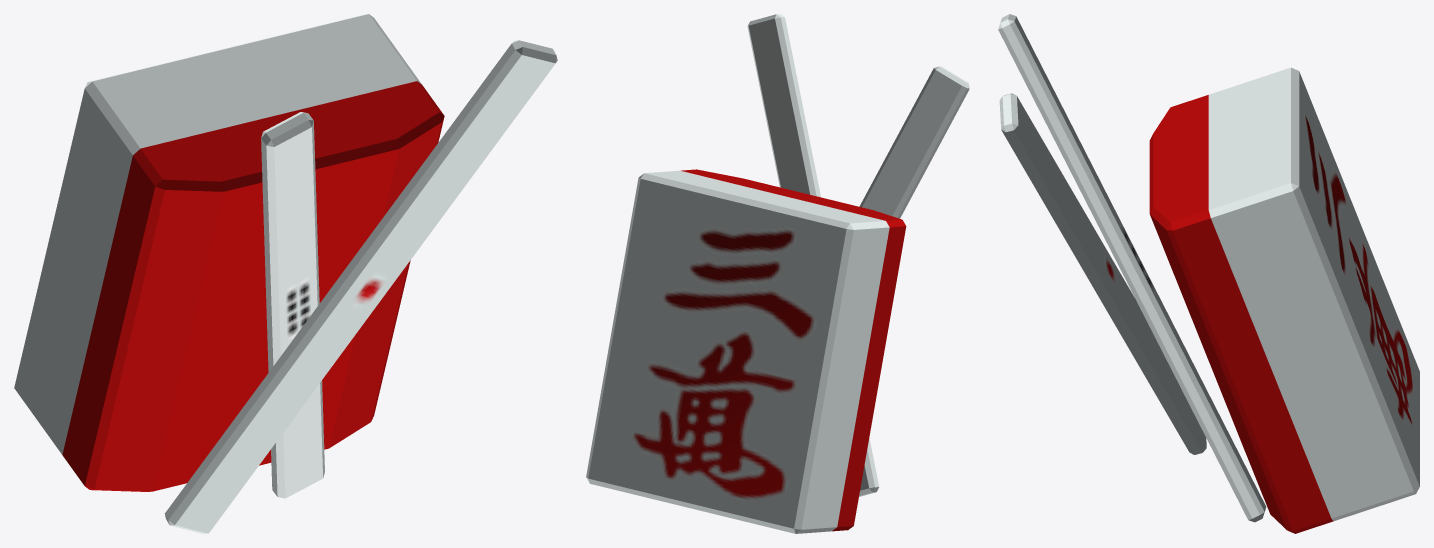
File: system.ico.obj
The picture shows the model from 3 angles, left to right: view 1: azimuth 30°, elevation 25°; view 2: azimuth 150°, elevation 25°; view 3: azimuth 270°, elevation 25°; orthographic projection. The views are drawn at different scales.
Bounding box in the file's own units: 2.7 × 4.55 × 3.77.
Materials: 1 (1 with a texture image).
